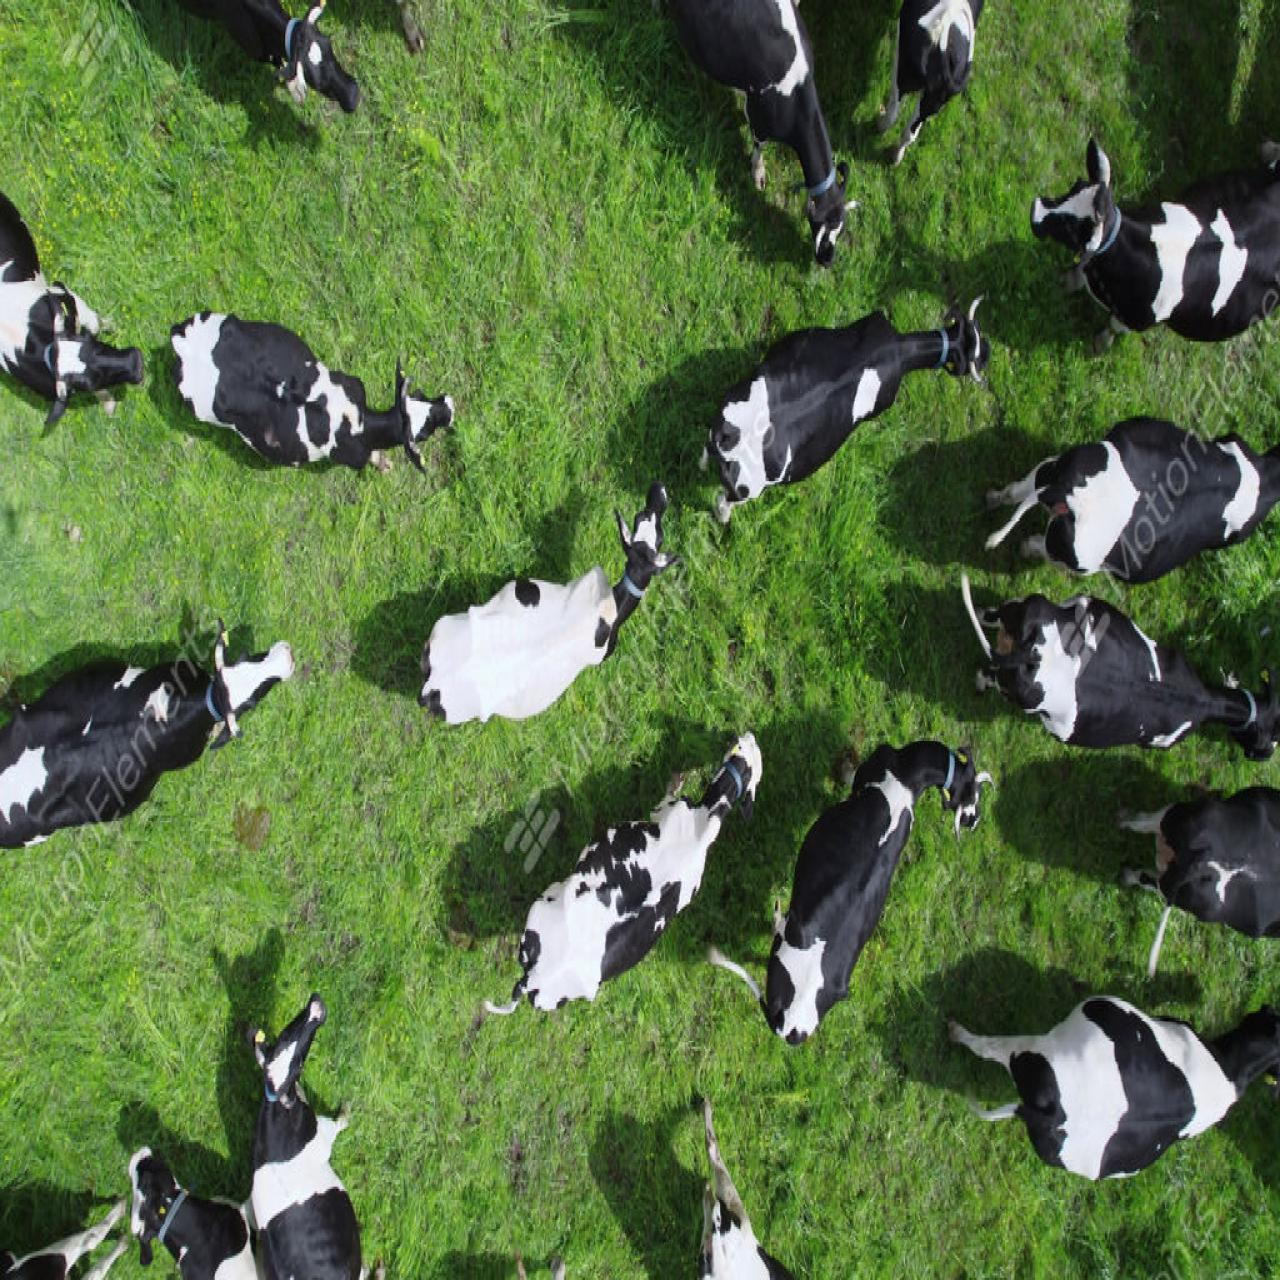cow: (695, 693, 1006, 1060), (0, 613, 298, 900), (505, 723, 768, 1028), (942, 983, 1280, 1212), (411, 469, 673, 742), (954, 566, 1280, 777), (700, 282, 996, 511), (967, 388, 1280, 593), (152, 291, 468, 490), (1033, 135, 1280, 373), (647, 0, 858, 272), (240, 972, 390, 1280), (1107, 761, 1275, 988), (0, 224, 147, 454), (659, 1084, 799, 1280), (166, 0, 368, 132), (130, 1092, 258, 1280), (865, 4, 988, 178), (8, 1172, 132, 1280)
